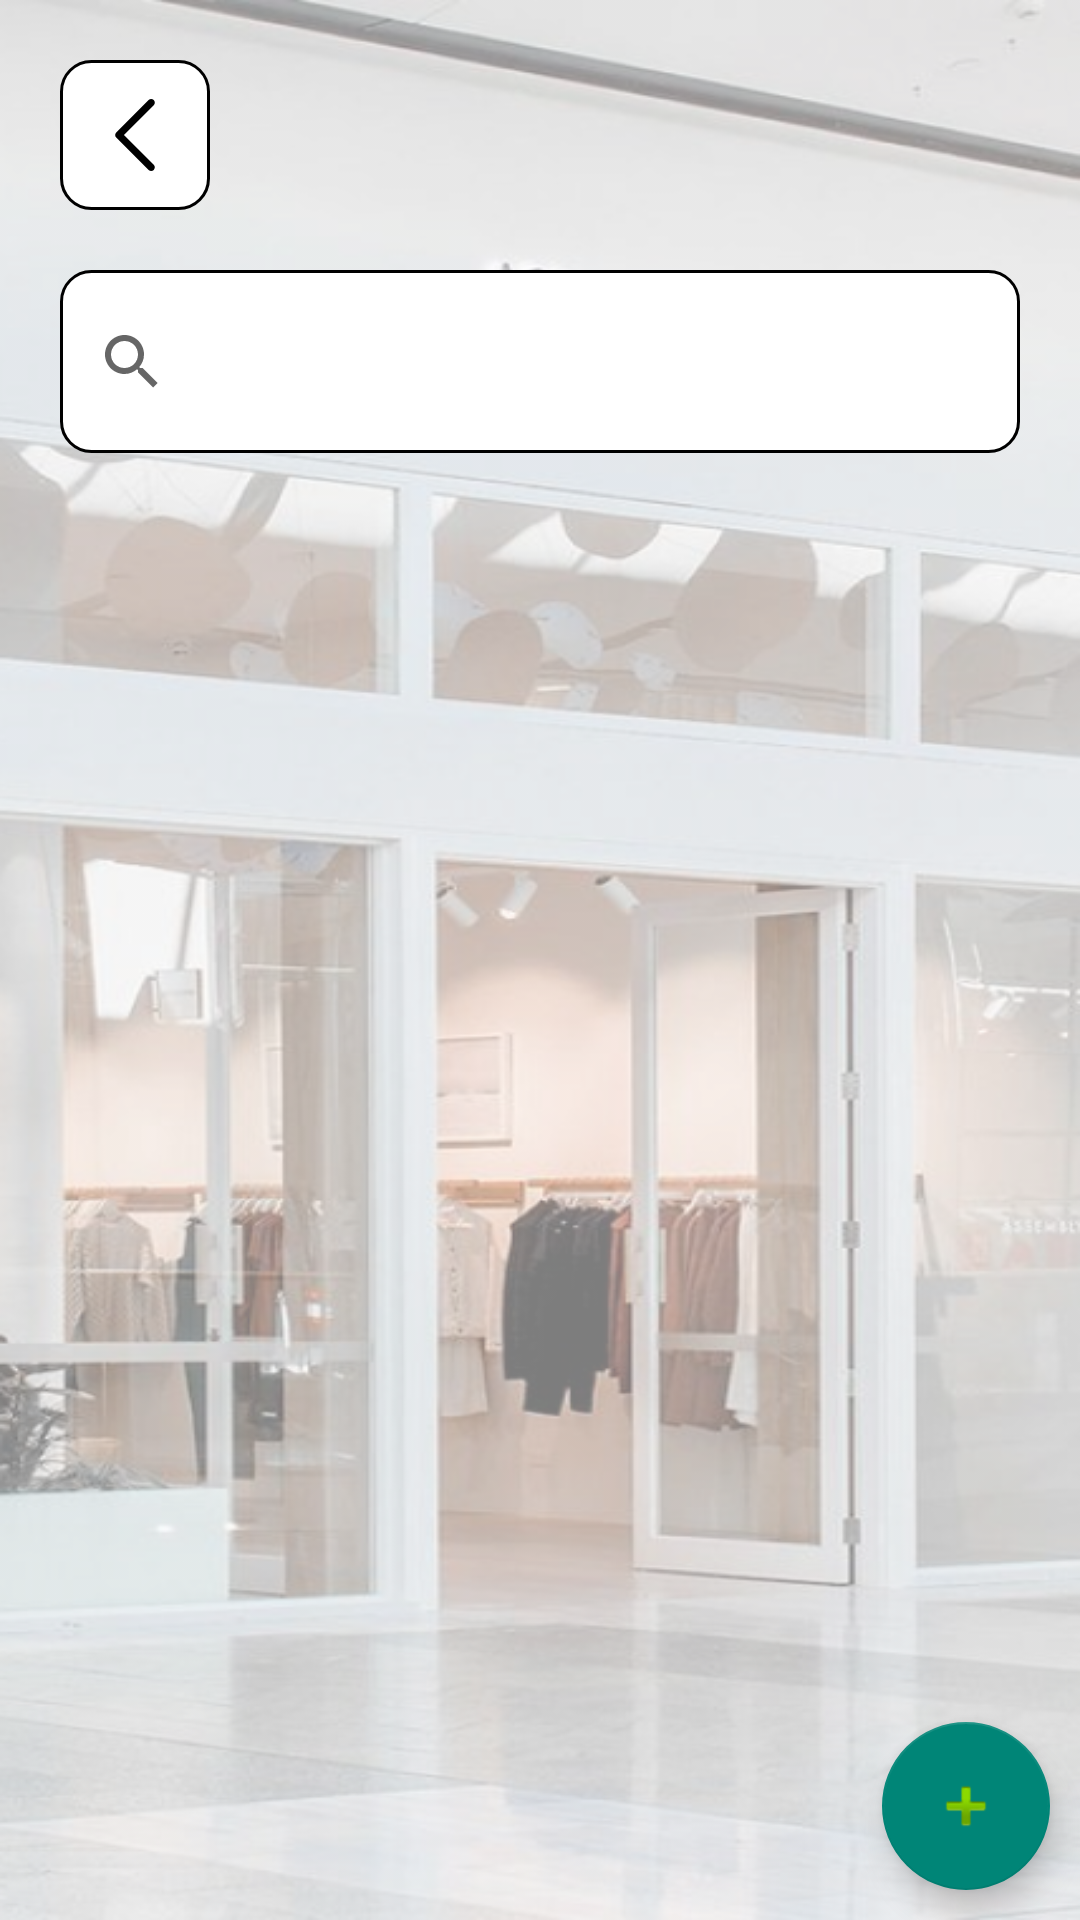

Icon bounding boxes for this 1080x1920 phone screenshot, format [x1,y1,x2,y2]:
add: [882,1722,1050,1890]
back: [60,60,210,210]
